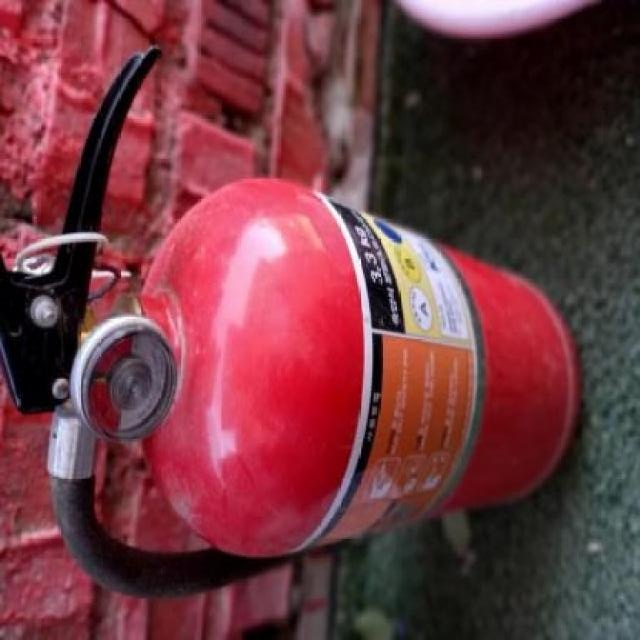fire extinguisher: (0, 47, 583, 601)
